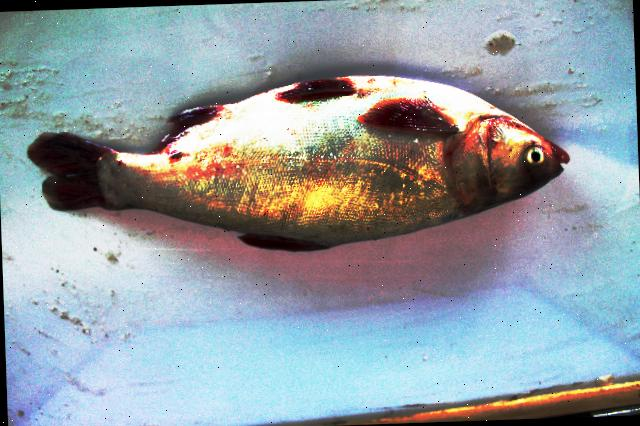Healthy Fish: (27, 75, 568, 250)
